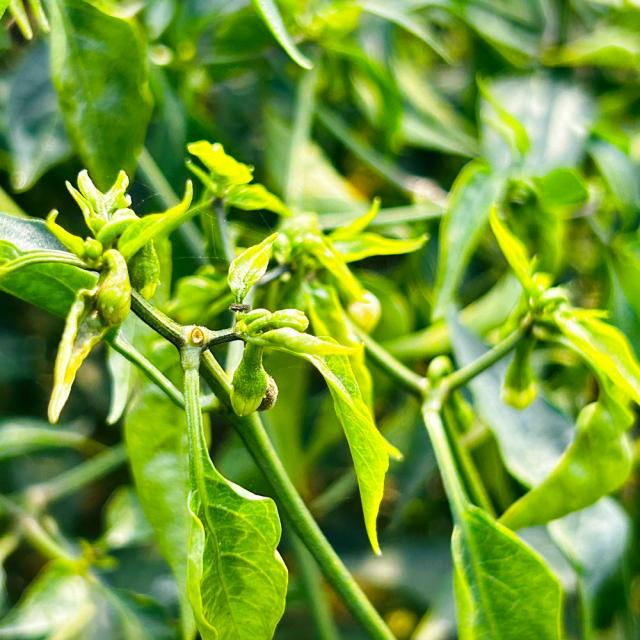Chilli_Leaf_Curl: (1, 1, 638, 638), (2, 166, 193, 424), (229, 306, 404, 556), (177, 328, 289, 638), (449, 503, 564, 639), (225, 230, 280, 304)
